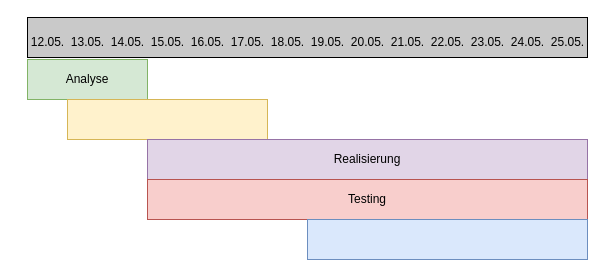
Some shapes in this 614 by 277 pixel diagram are drawn without their labels. Each missing label, with the centre of its shape:
"Documentation" belongs at point 447,239.
"Entwurf" belongs at point 167,119.
